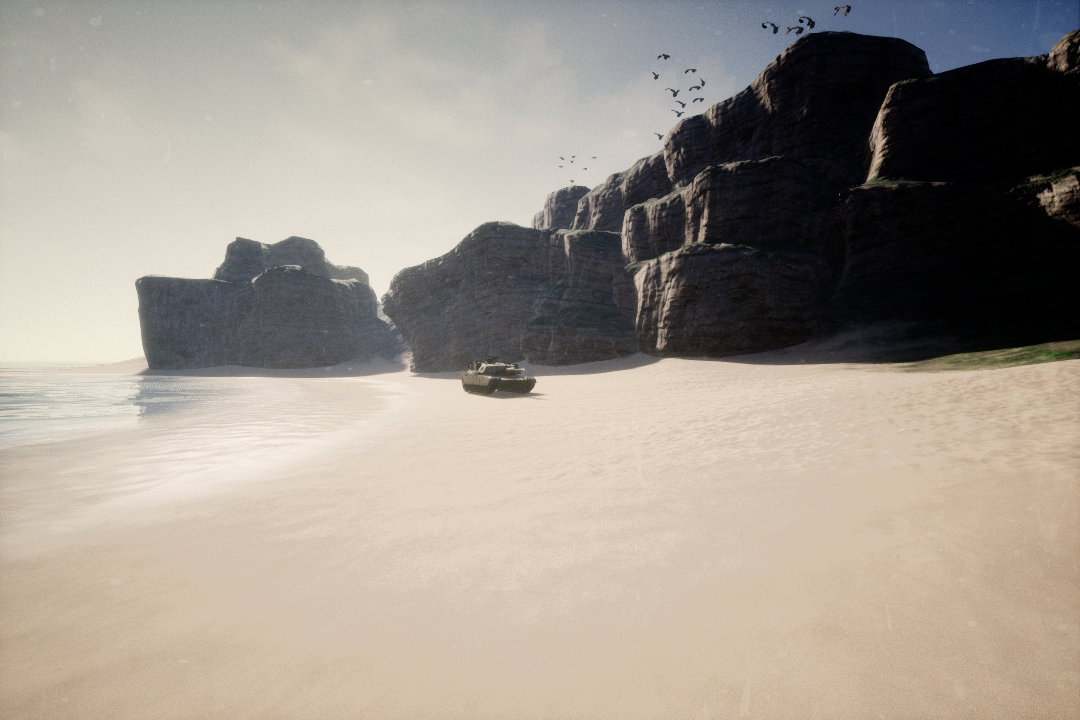tank: (459, 361, 540, 398)
